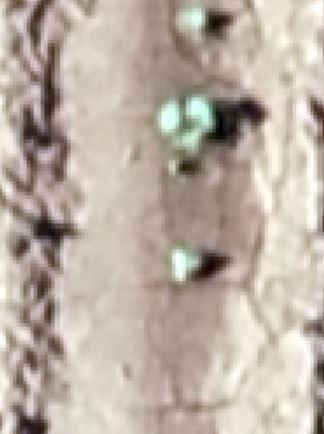cotton: (173, 247, 200, 280), (188, 97, 212, 131), (174, 129, 201, 151), (160, 105, 180, 130), (184, 9, 205, 30), (169, 160, 177, 173)
